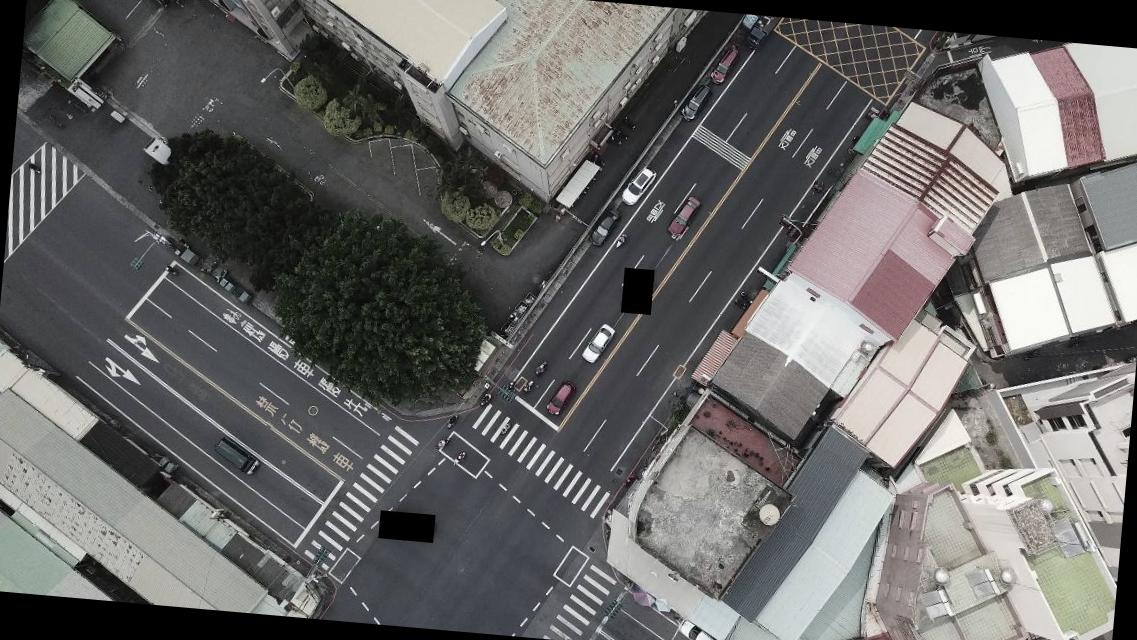vehicle: (210, 436, 260, 476), (620, 162, 656, 210), (580, 320, 615, 367), (587, 206, 622, 252), (666, 194, 701, 238), (707, 44, 740, 86), (680, 82, 712, 124), (674, 617, 733, 639), (544, 380, 576, 420)
